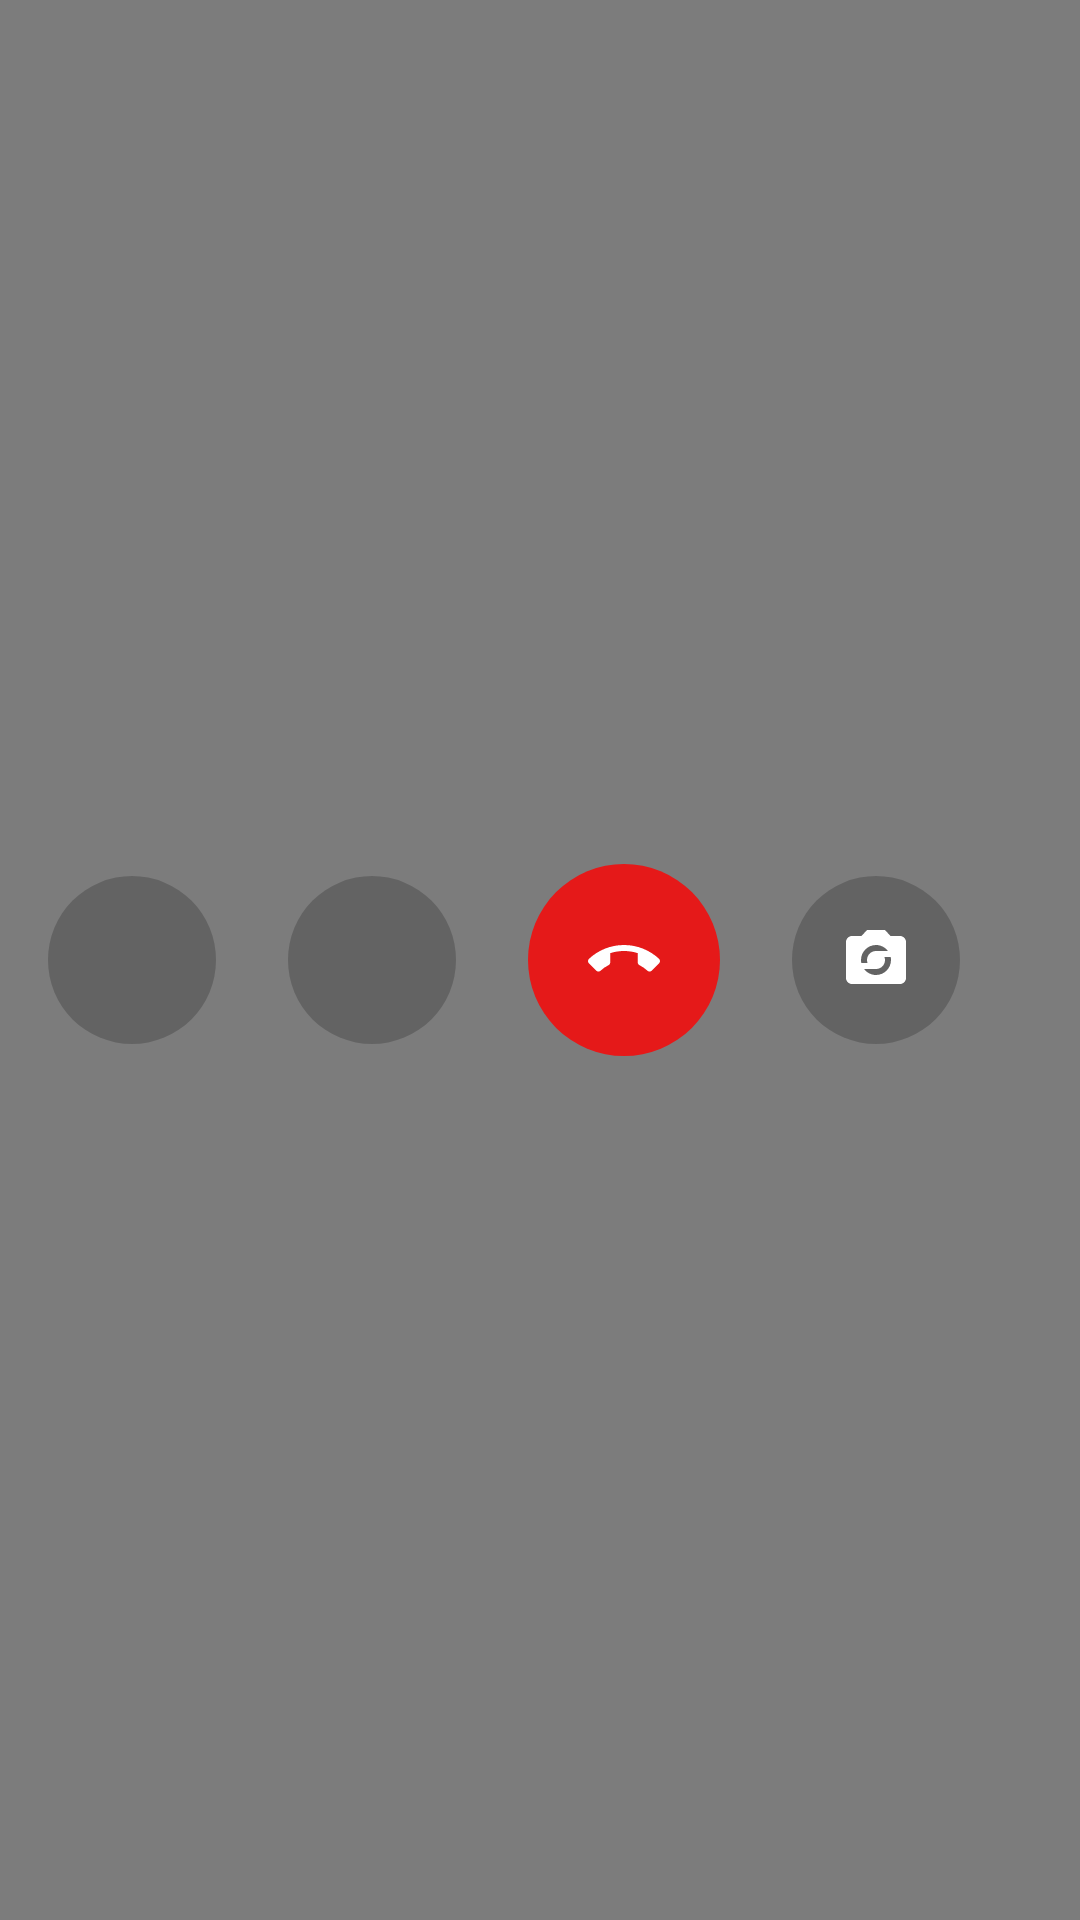

Named icons in this screenshot (1080*1920) and their centers, [x,y]:
切换摄像头: [876,960]
结束通话: [624,960]
